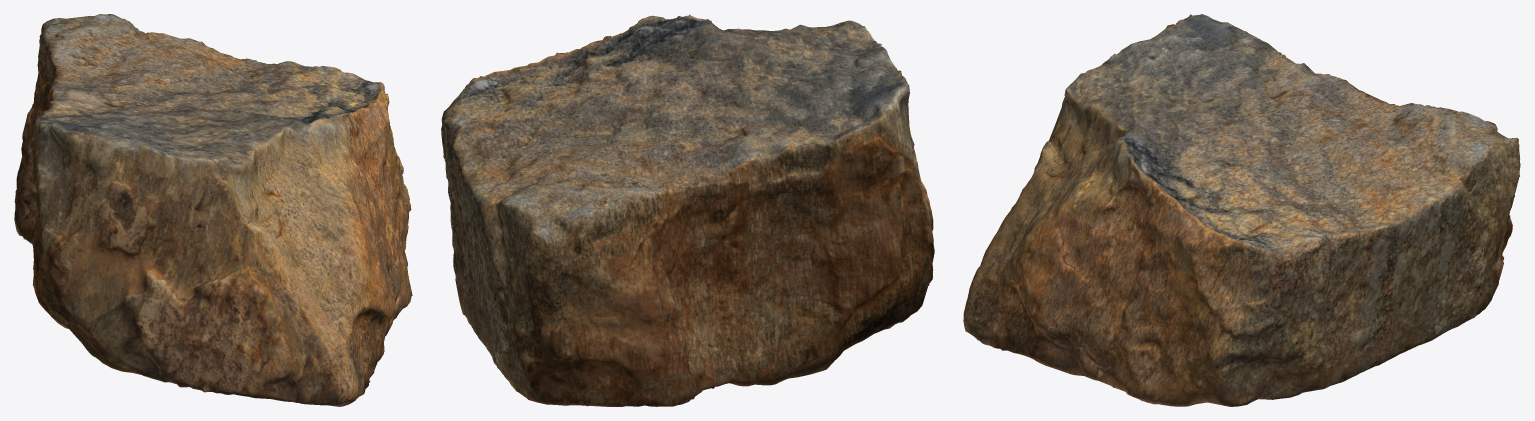
File: desert_hero_boulder_b.glb
3 views of the same model, side by side, from view 1: azimuth 30°, elevation 25°; view 2: azimuth 150°, elevation 25°; view 3: azimuth 270°, elevation 25° (orthographic). The views are drawn at different scales.
Visible parts, largest first — view 1: boulder_03_LOD0; view 2: boulder_03_LOD0; view 3: boulder_03_LOD0.
Boxes of the visible parts, x1,y1,x2,y2 form: boulder_03_LOD0: [14, 14, 412, 406]; boulder_03_LOD0: [441, 14, 934, 406]; boulder_03_LOD0: [963, 14, 1520, 406].
Size of the model in its own units: 2.41 by 1.47 by 3.07.
1 material, 1 textured.
